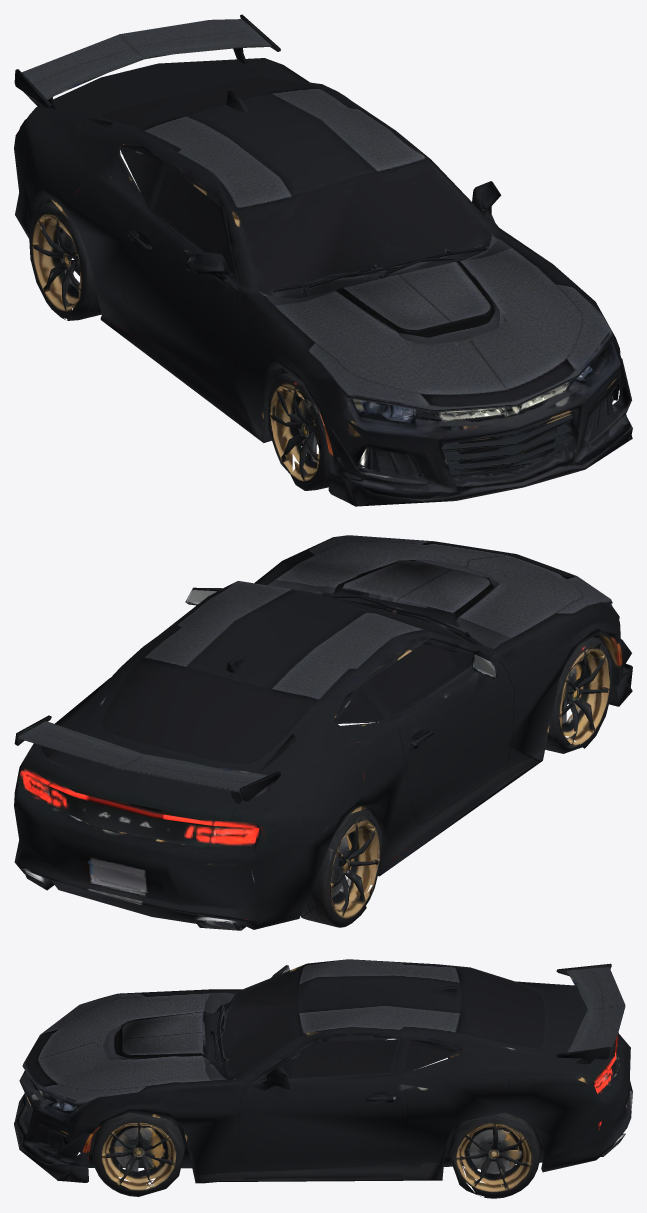
File: rob.glb
The picture shows the model from 3 angles, top to bottom: view 1: azimuth 30°, elevation 25°; view 2: azimuth 150°, elevation 25°; view 3: azimuth 270°, elevation 25°; orthographic projection. The views are drawn at different scales.
Visible parts, largest first — view 1: bf4dc507_f974_4acc_8885_6a9743dccd54; view 2: bf4dc507_f974_4acc_8885_6a9743dccd54; view 3: bf4dc507_f974_4acc_8885_6a9743dccd54.
Boxes of the visible parts, box(x1,y1,x2,y2) form: bf4dc507_f974_4acc_8885_6a9743dccd54: box(14, 14, 632, 506); bf4dc507_f974_4acc_8885_6a9743dccd54: box(14, 535, 632, 930); bf4dc507_f974_4acc_8885_6a9743dccd54: box(14, 959, 632, 1198).
Bounding box in the file's own units: 0.4394 × 0.2813 × 0.998.
Materials: 5 (5 with a texture image).
